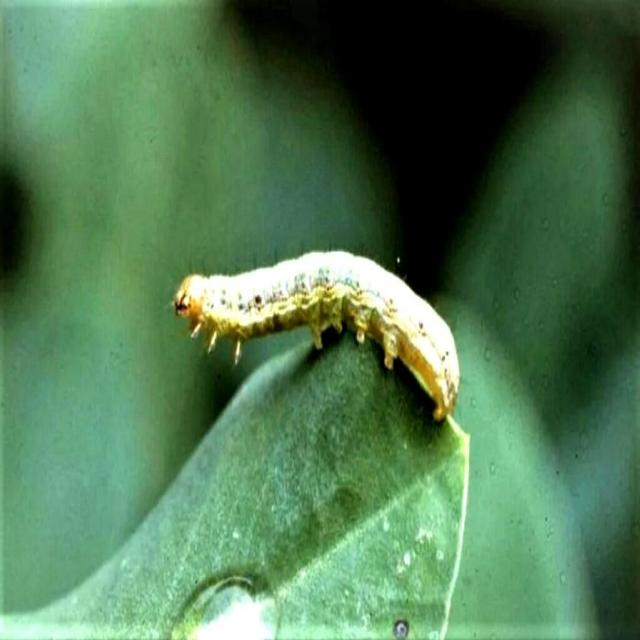Armyworm: (147, 225, 464, 437)
